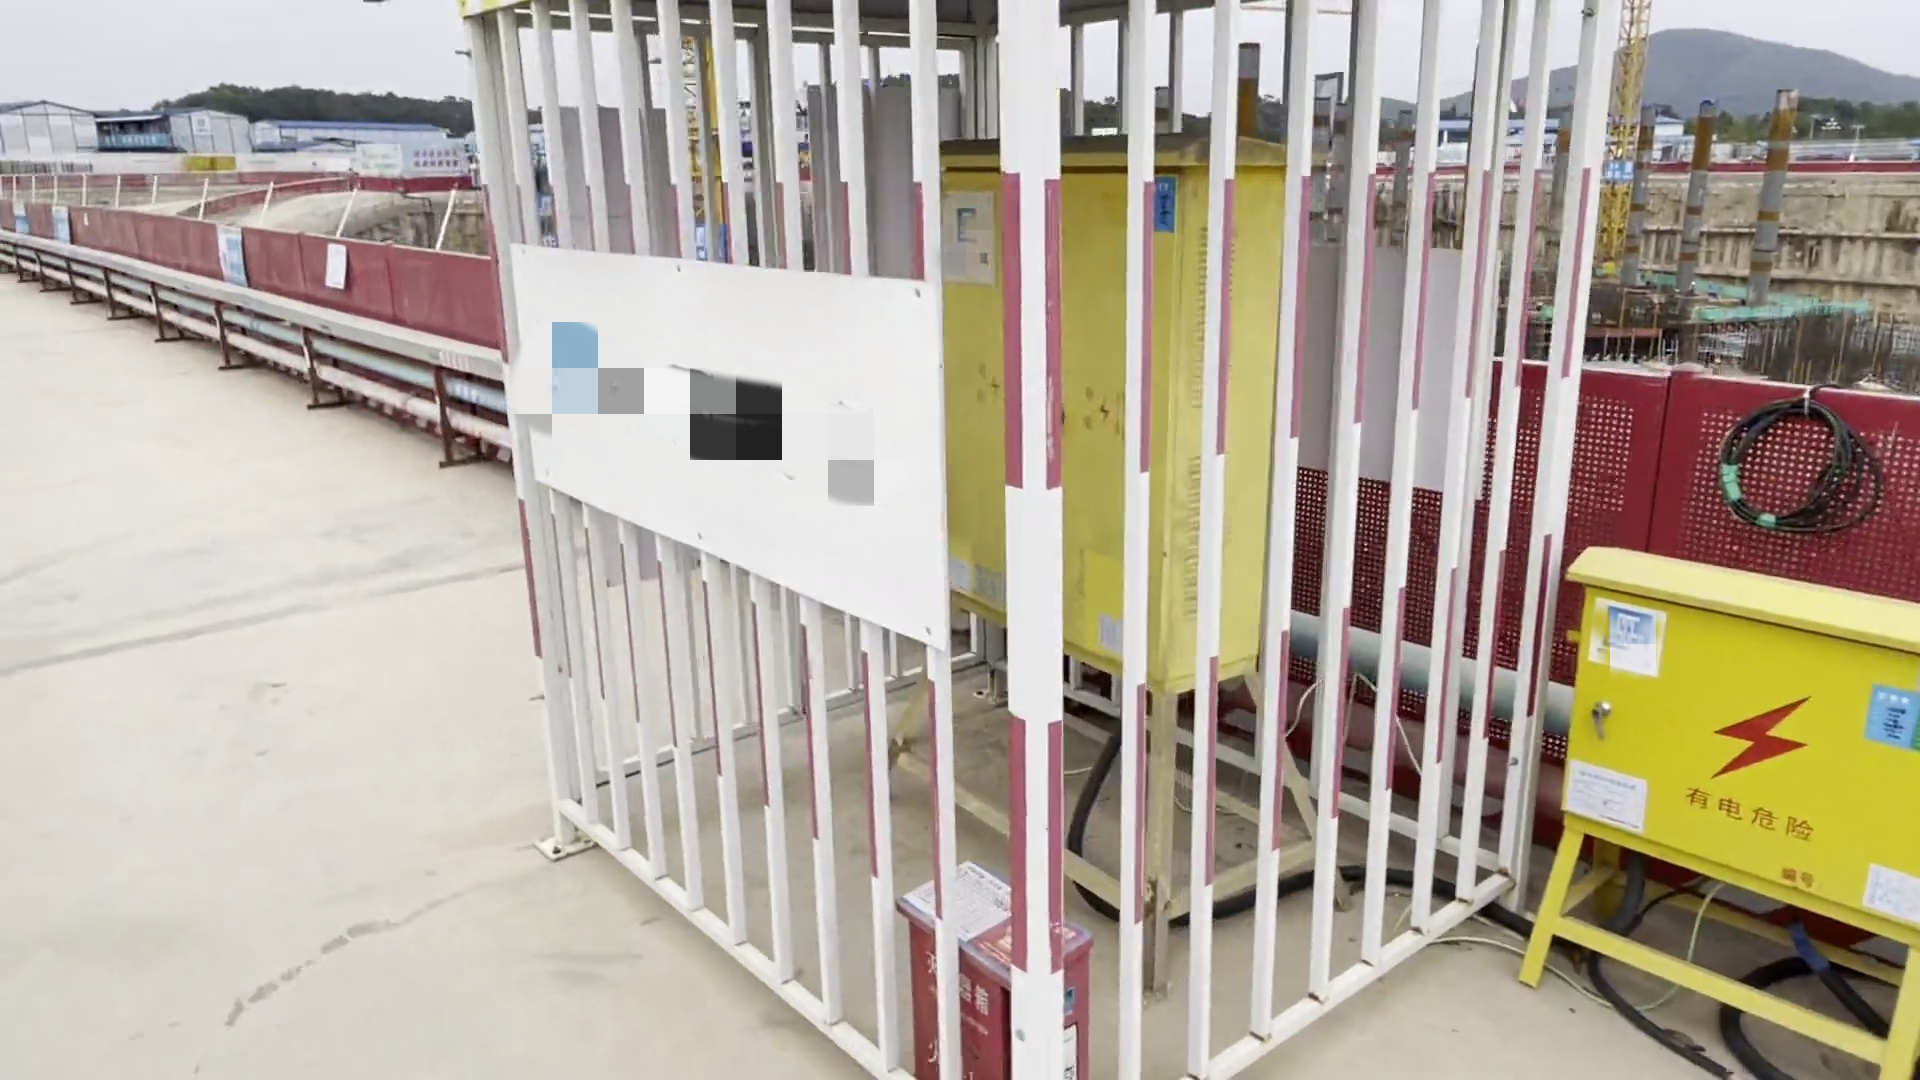ebox: (916, 109, 1344, 953), (1539, 512, 1920, 1021)
